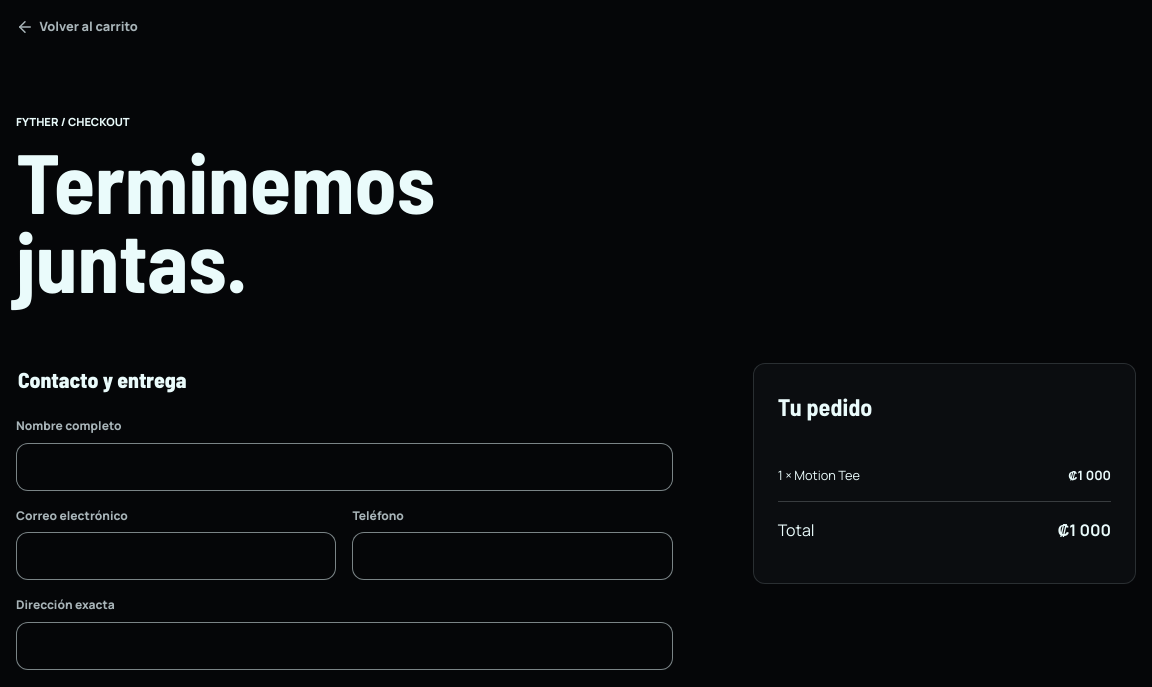
Test: CheckoutClient › marks missing fields, focuses the first one, and preserves entered data
This screenshot has width=1152, height=687.
Type "Steven" into the field labelled "Nombre completo" at (344, 467), box top-left (16, 443), bottom-right (673, 491)
(page scrolled)
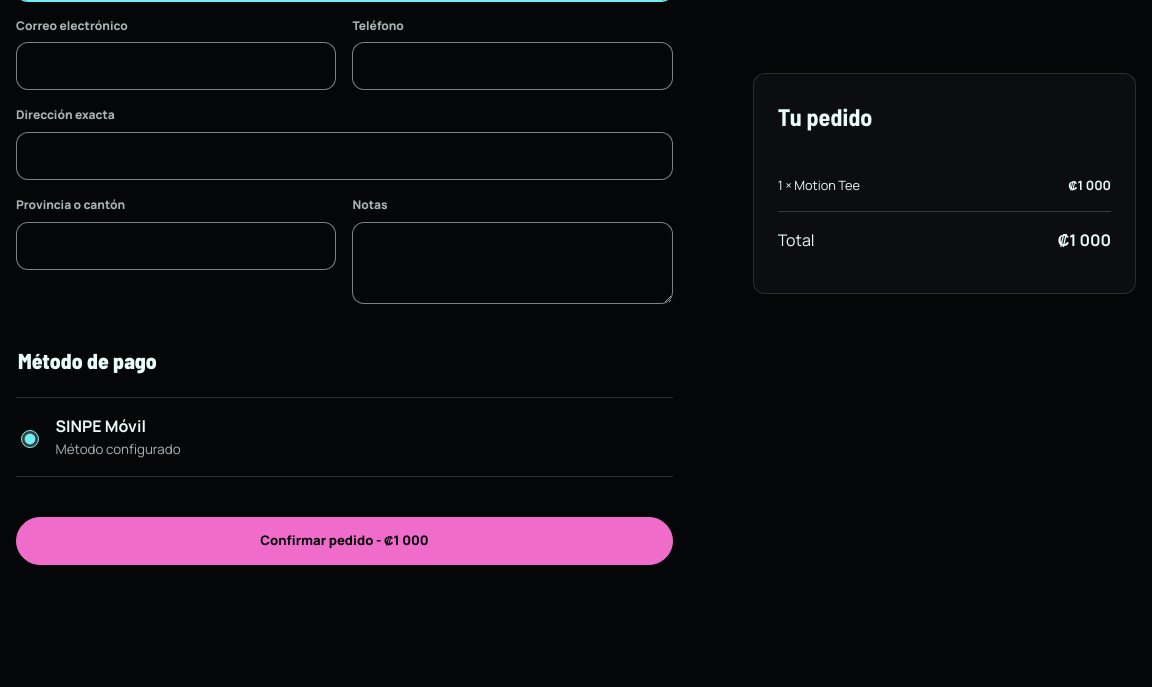
Click the button "Confirmar pedido - ₡1 000" at (344, 541), box top-left (16, 517), bottom-right (673, 565)
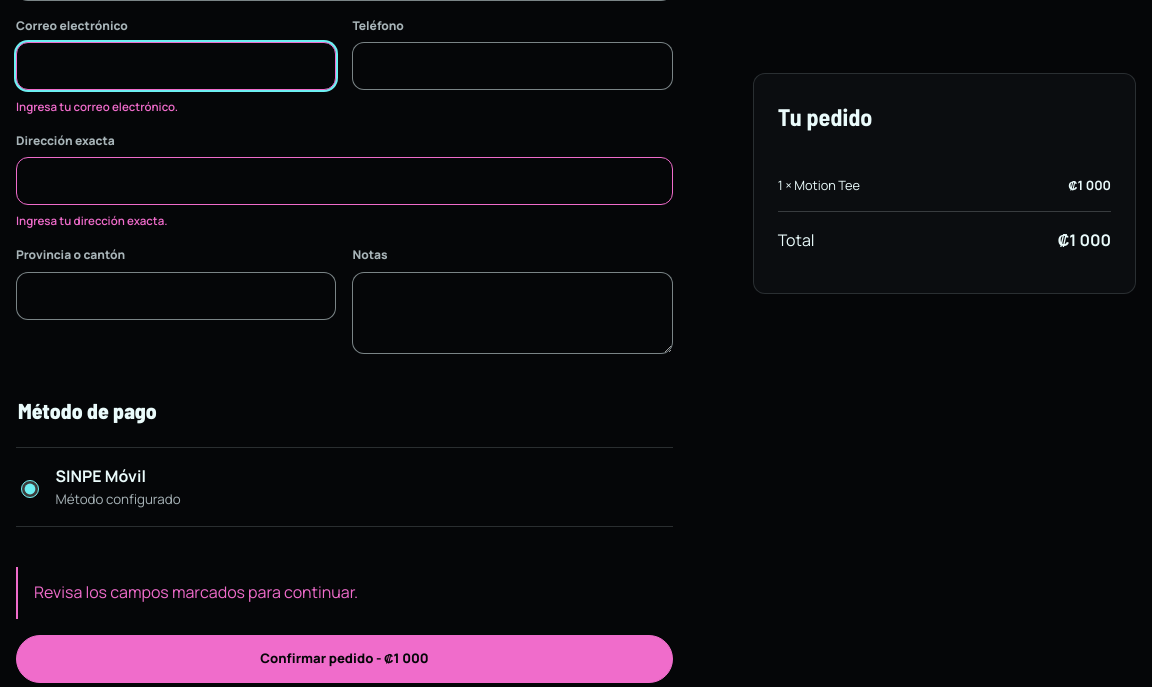
Check: the message reads "Revisa los campos marcados para continuar.", box top-left (34, 581), bottom-right (358, 603)
